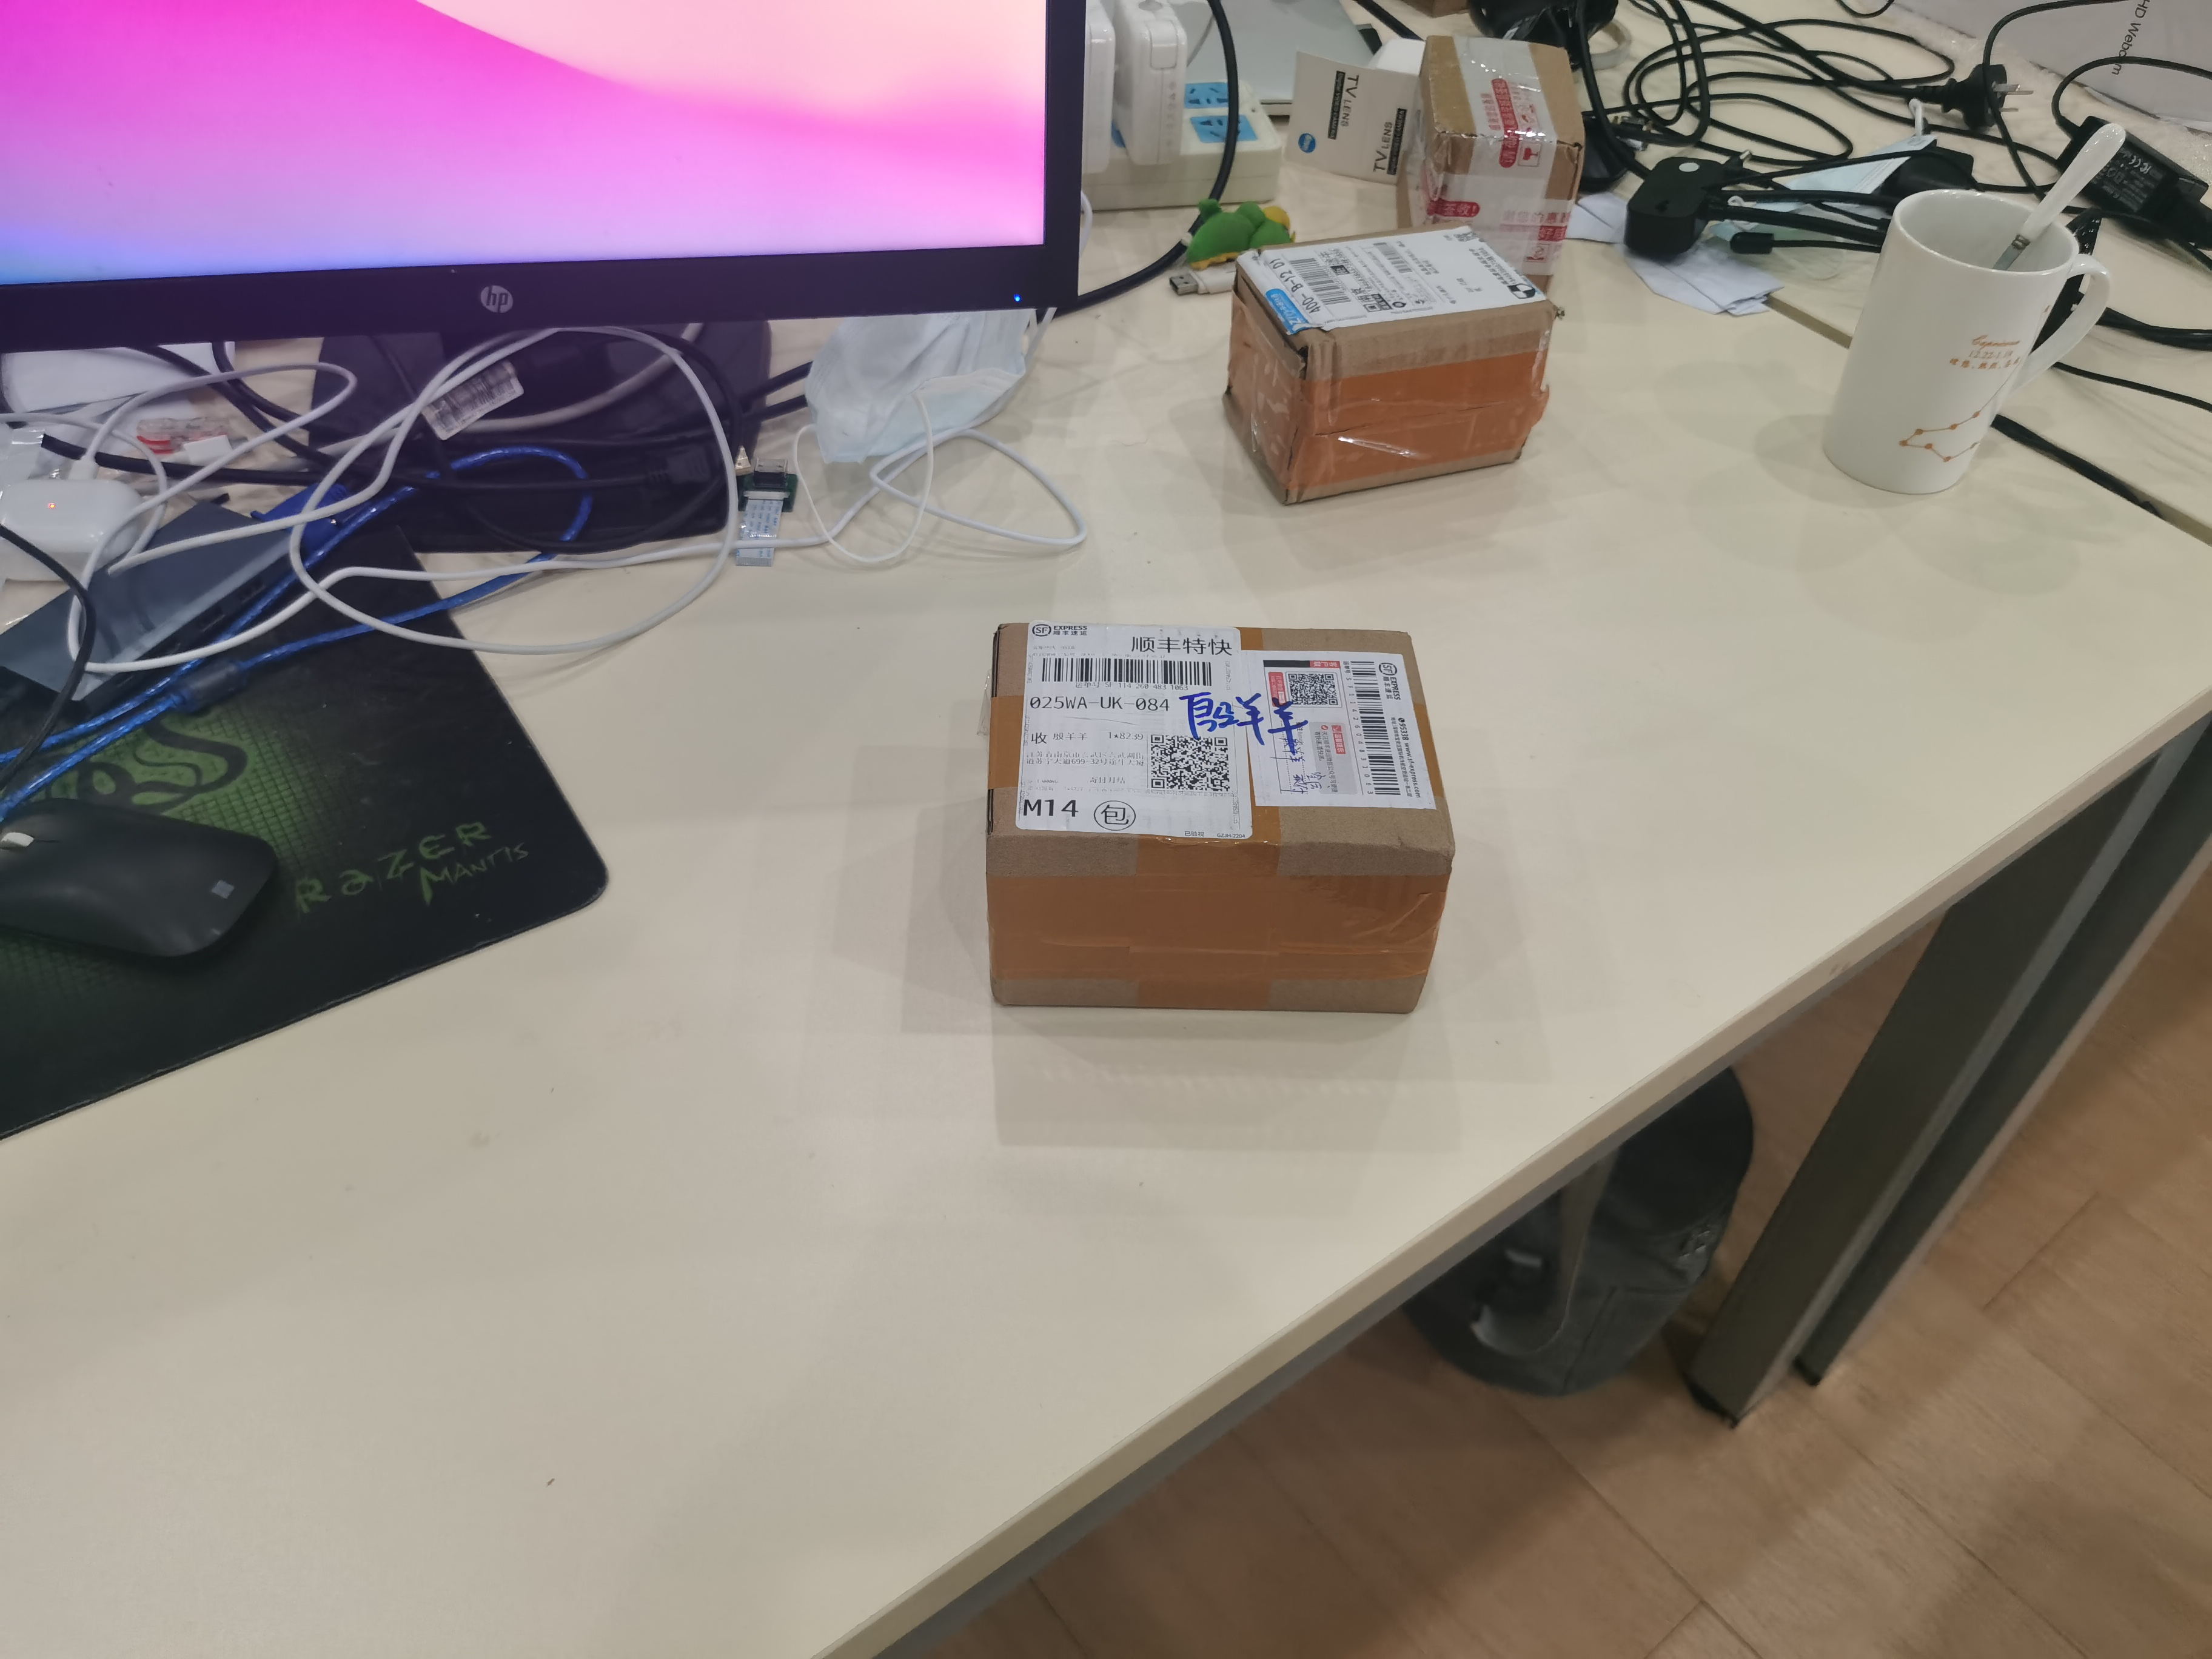box: (977, 617, 1456, 1037), (1214, 234, 1562, 504), (1383, 28, 1611, 293)
